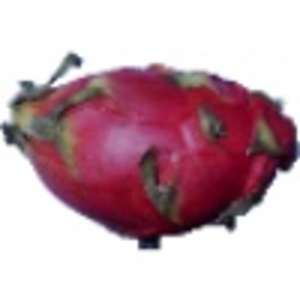pitaia: (1, 51, 300, 252)
